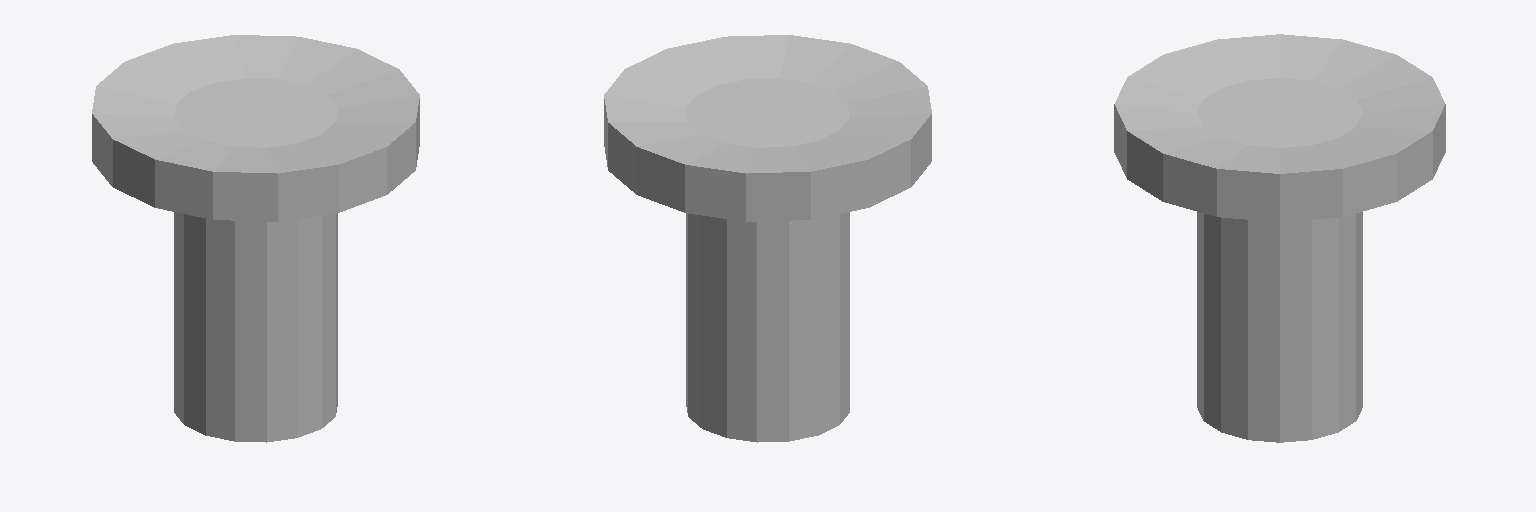
Rendered from pin.obj.
The picture shows the model from 3 angles: view 1: azimuth 30°, elevation 25°; view 2: azimuth 150°, elevation 25°; view 3: azimuth 270°, elevation 25°; orthographic projection.
Parts seen in each view (by area): view 1: Cylinder; view 2: Cylinder; view 3: Cylinder.
Part boxes in pixels (left/top/right/bottom): Cylinder: left=92, top=35, right=419, bottom=442; Cylinder: left=604, top=35, right=931, bottom=442; Cylinder: left=1114, top=34, right=1445, bottom=442.
Bounding box in the file's own units: 4 × 4.05 × 4.